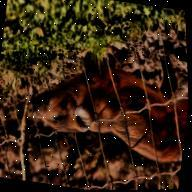boar: (19, 22, 191, 170)
